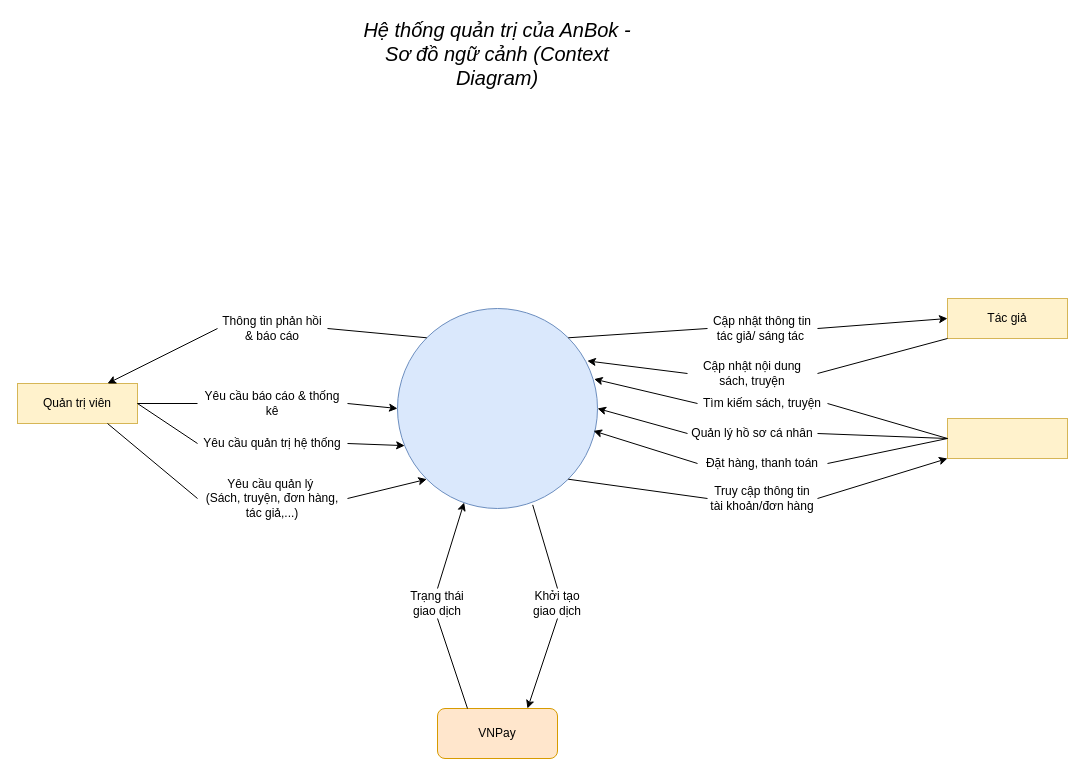
Image size: 1085x776. Some labels were removed from this diagram. Each missing label, with the centre of its shape:
Hệ thống AnBok: (x=497, y=408)
Hội viên/ Người dừng: (x=1007, y=438)
